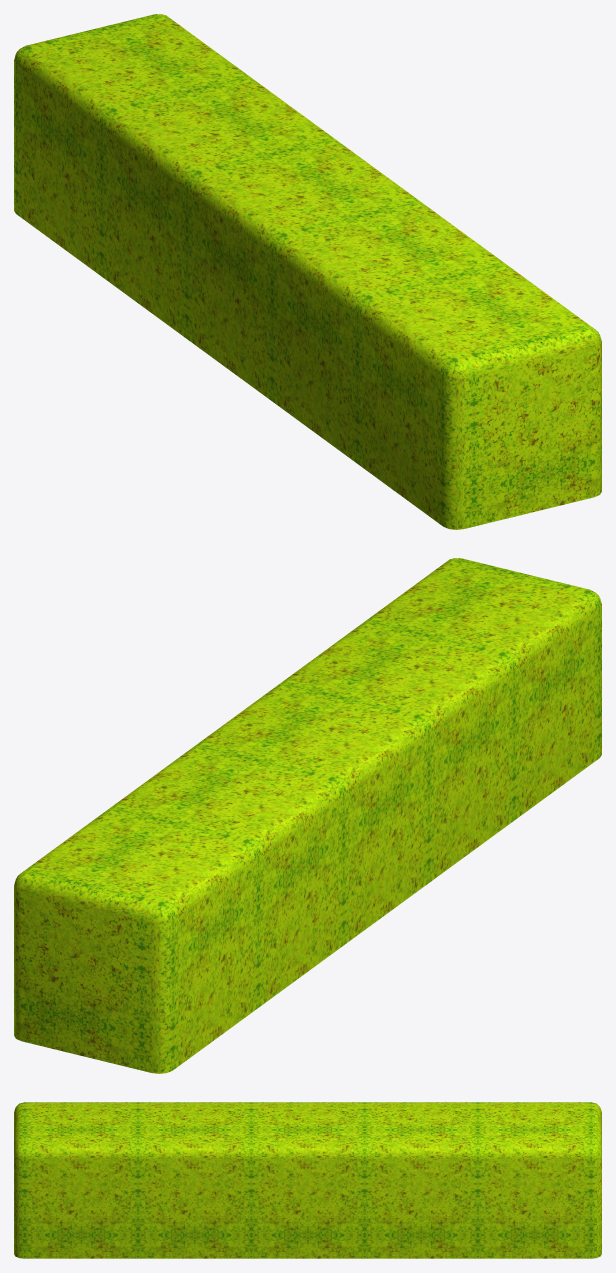
File: Ornamento_PingoDOuro (2) 1.fbx
The picture shows the model from 3 angles, top to bottom: view 1: azimuth 30°, elevation 25°; view 2: azimuth 150°, elevation 25°; view 3: azimuth 270°, elevation 25°; orthographic projection. The views are drawn at different scales.
Parts seen in each view (by area): view 1: Ornamento_PingoDOuro__2_; view 2: Ornamento_PingoDOuro__2_; view 3: Ornamento_PingoDOuro__2_.
Boxes of the visible parts, x1=… form: Ornamento_PingoDOuro__2_: x1=14, y1=14, x2=601, y2=529; Ornamento_PingoDOuro__2_: x1=14, y1=558, x2=601, y2=1073; Ornamento_PingoDOuro__2_: x1=14, y1=1102, x2=601, y2=1258.
Size of the model in its own units: 200 by 200 by 978.
Materials: 1 (1 with a texture image).
